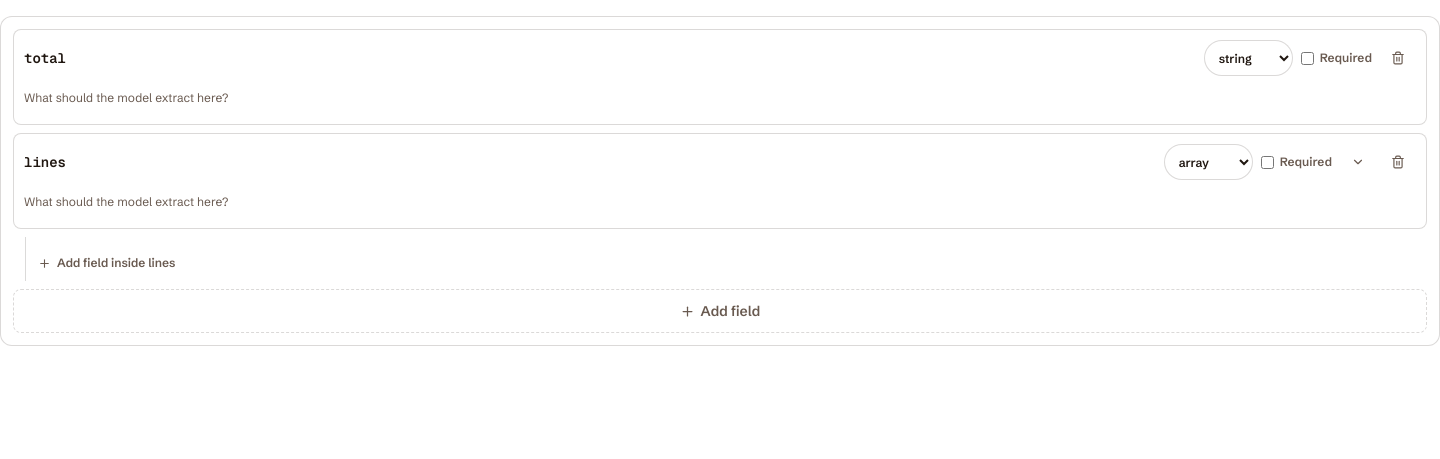
SchemaBuilder › only nests inside object and array fields
This screenshot has width=1440, height=459.
Expected: the 2nd button named "fields inside lines" is shown, x1=1340 y1=144 x2=1376 y2=180
What coordinates should you click on to do the following:
click the button "Add field inside lines"
I would click on:
 (107, 263)
Its box is x1=38 y1=245 x2=175 y2=281.
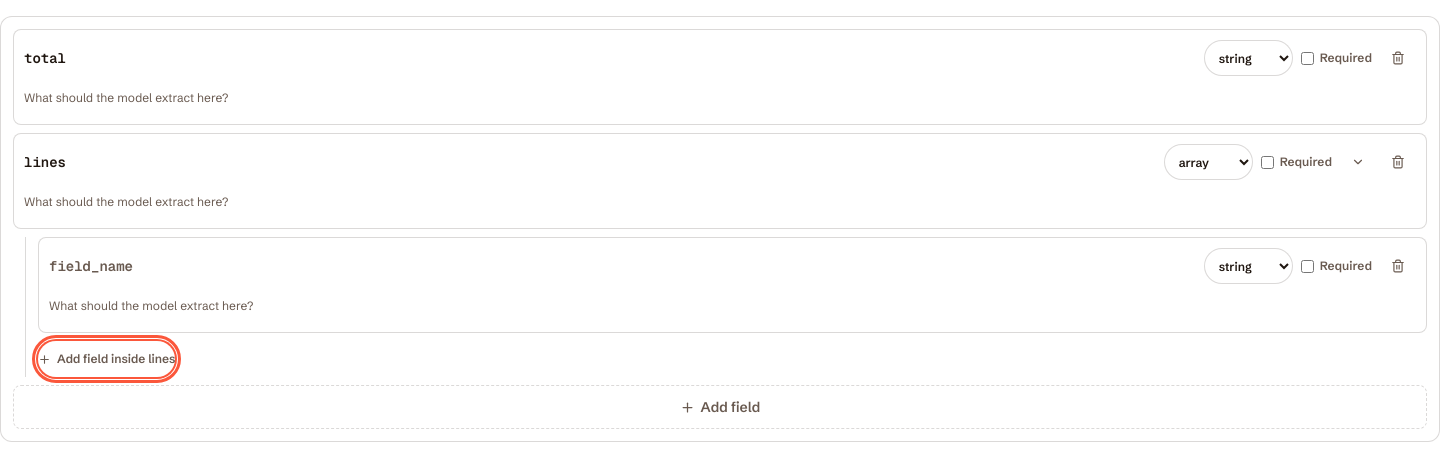
Now the number of fields with placeholder "field_name" is 3, box x1=24 y1=40 x2=1196 y2=76; x1=24 y1=144 x2=1156 y2=180; x1=49 y1=248 x2=1196 y2=284
